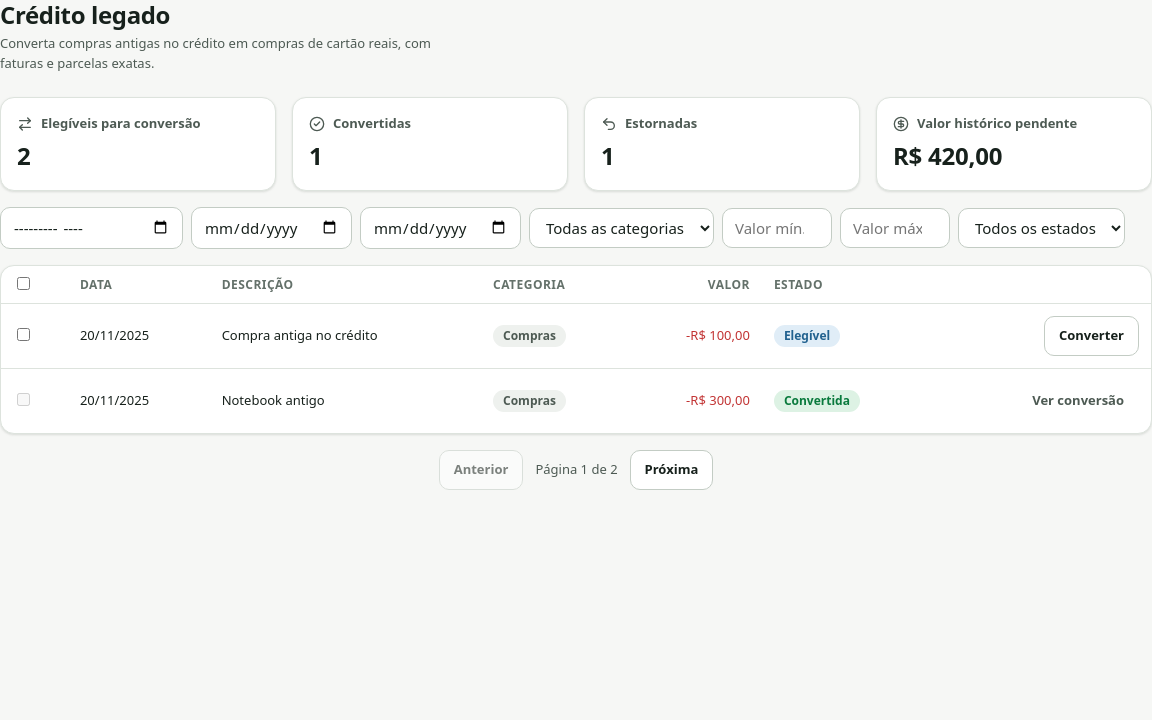
Scenario: LegacyConversionWizard › shows the backend schedule exactly, with cent-exact amounts
expect the text "Compra antiga no crédito" is shown: met, box [222,326,378,344]
Click the button "Converter": (1091, 336) [1044,316,1139,356]
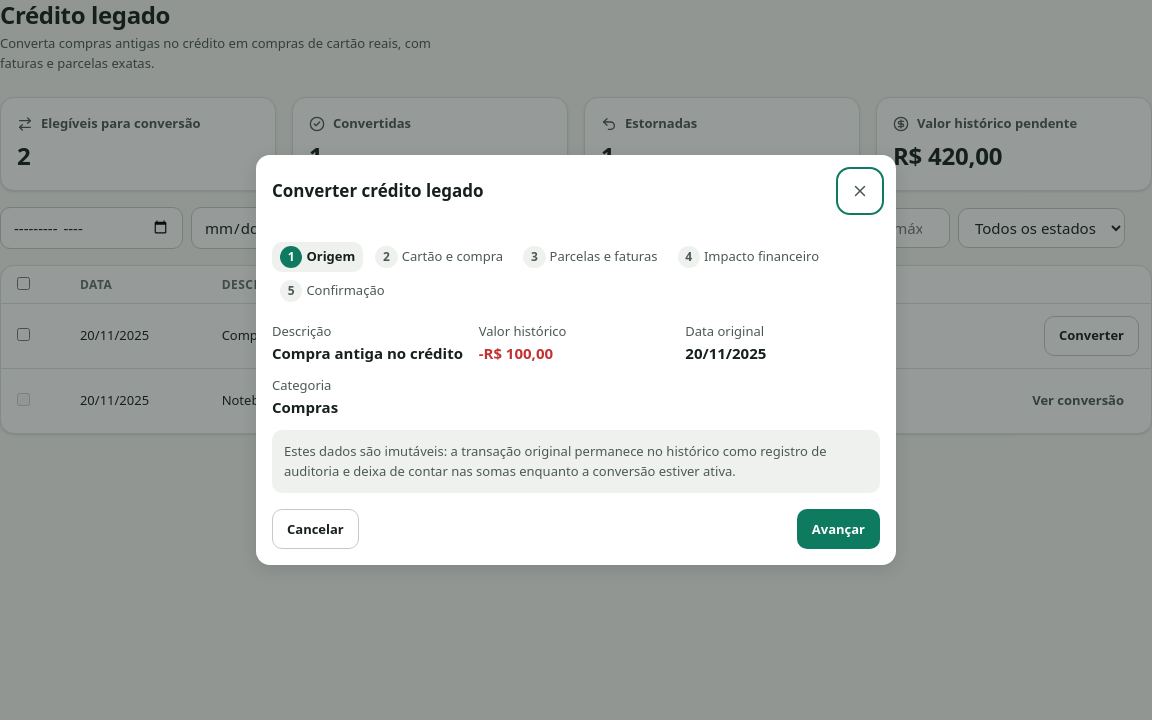
expect the text "Valor histórico" is shown: met, box [479,322,566,340]
Click the button "Avançar": (838, 529) [797,509,880,549]
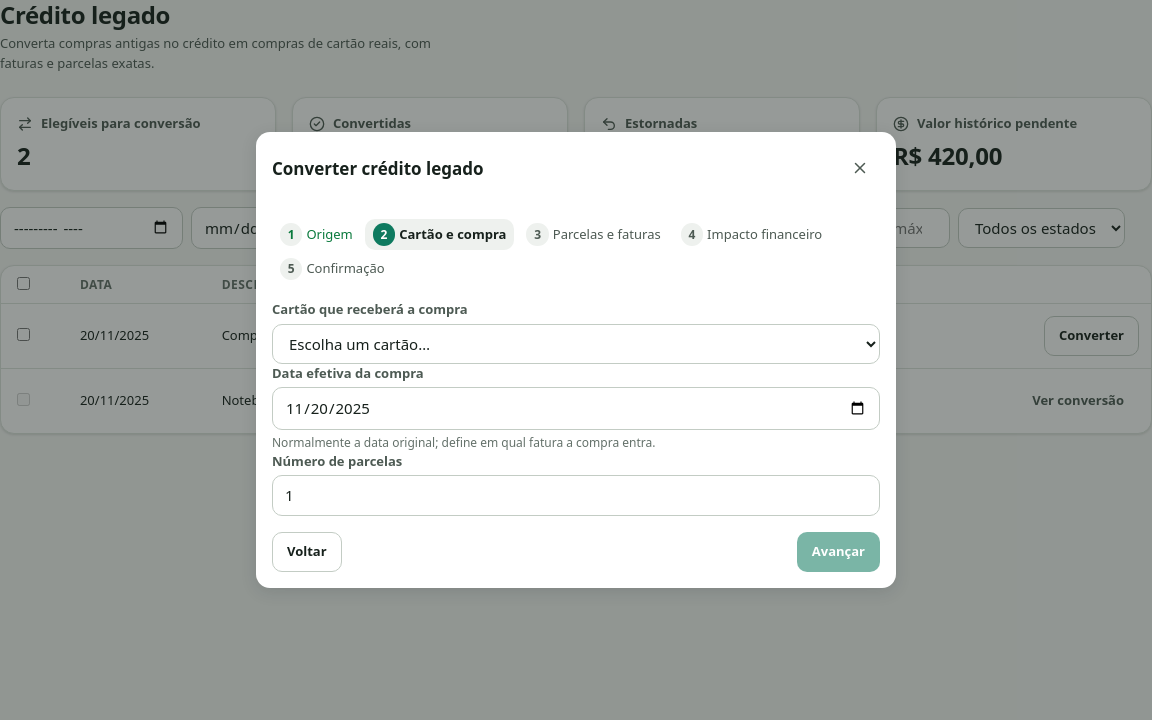
Select "Cartão Roxo — limite disponível R$ 10.000,00" in the dropdown labelled "Cartão que receberá a compra": (576, 344) [272,324,880,364]
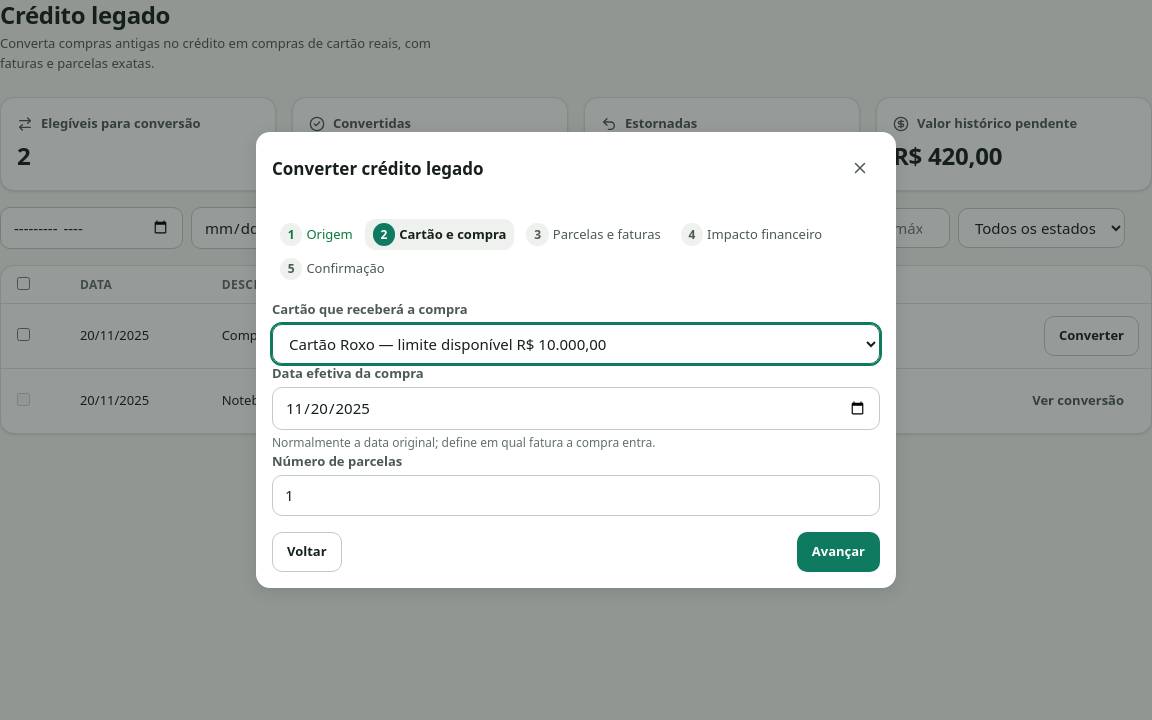
Replace the text in the number field labelled "Número de parcelas" with "3": (576, 495) [272,475,880,516]
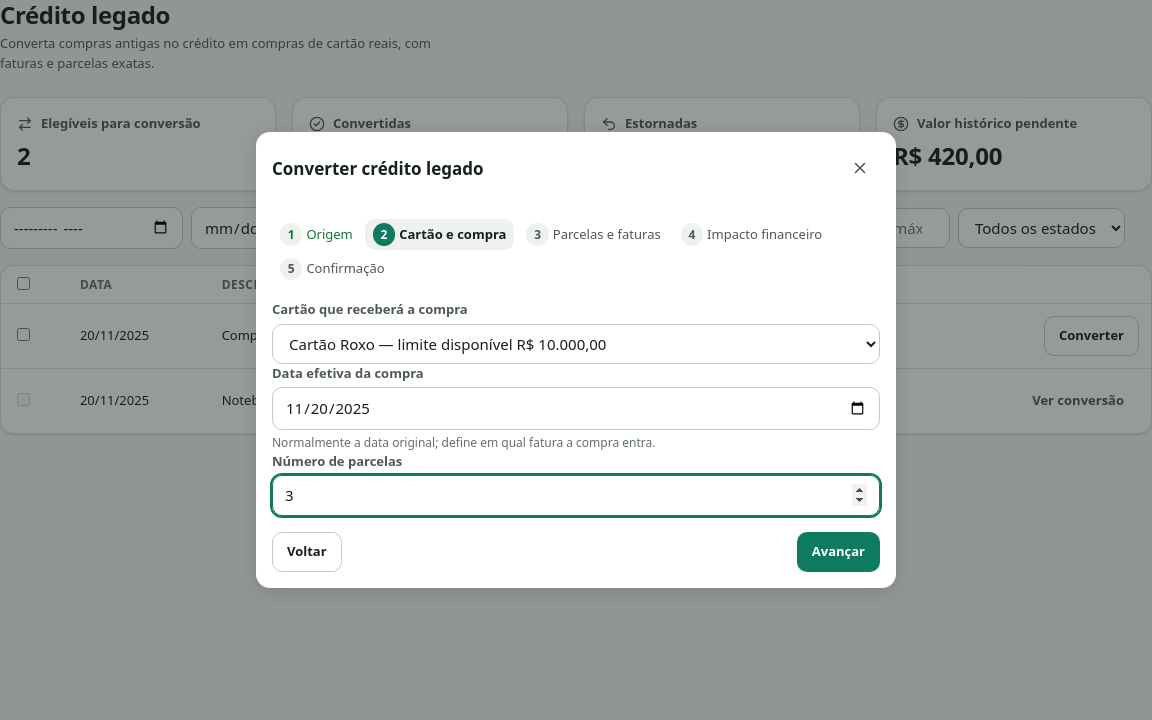
Click the button "Avançar": (838, 552) [797,532,880,572]
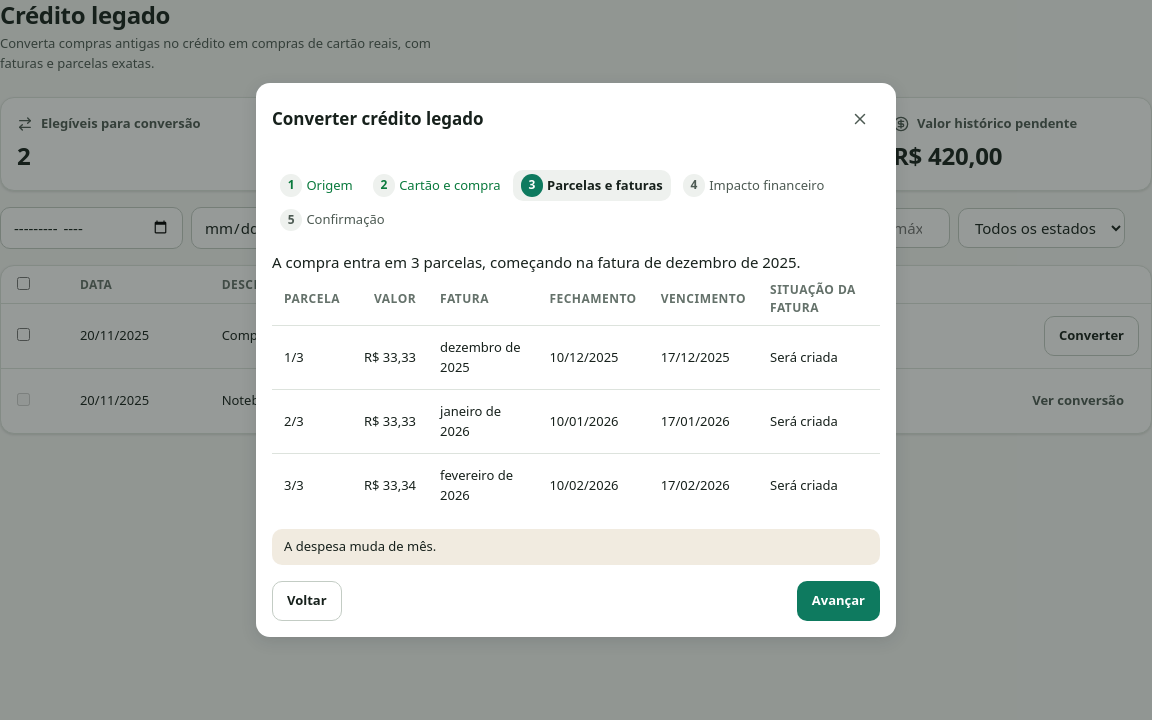
expect the text "1/3" is shown: met, box [272,326,352,390]
expect the text "R$ 33,34" is shown: met, box [364,476,416,494]
expect the list item "A despesa muda de mês." is shown: met, box [284,537,436,555]
Click the button "Avançar": (838, 601) [797,581,880,621]
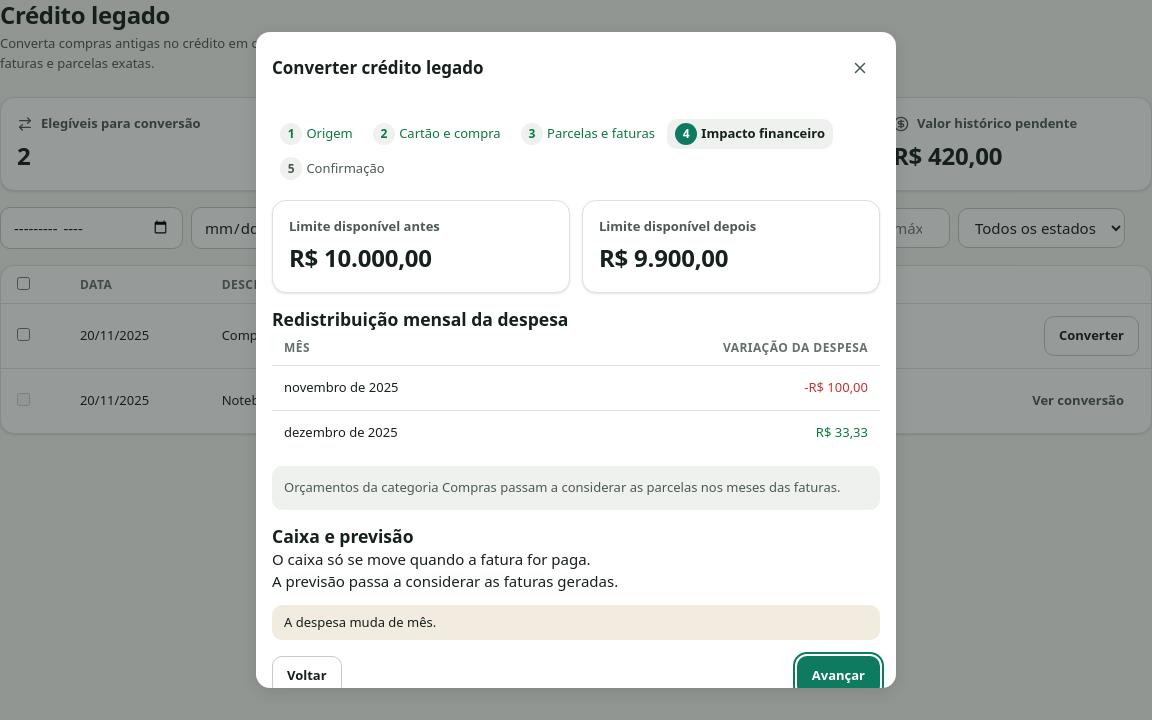
expect the text "Limite disponível antes" is shown: met, box [289,217,440,235]
expect the text "O caixa só se move quando a fatura for paga." is shown: met, box [272,549,591,569]
expect the text "A previsão passa a considerar as faturas geradas." is shown: met, box [272,571,618,591]
